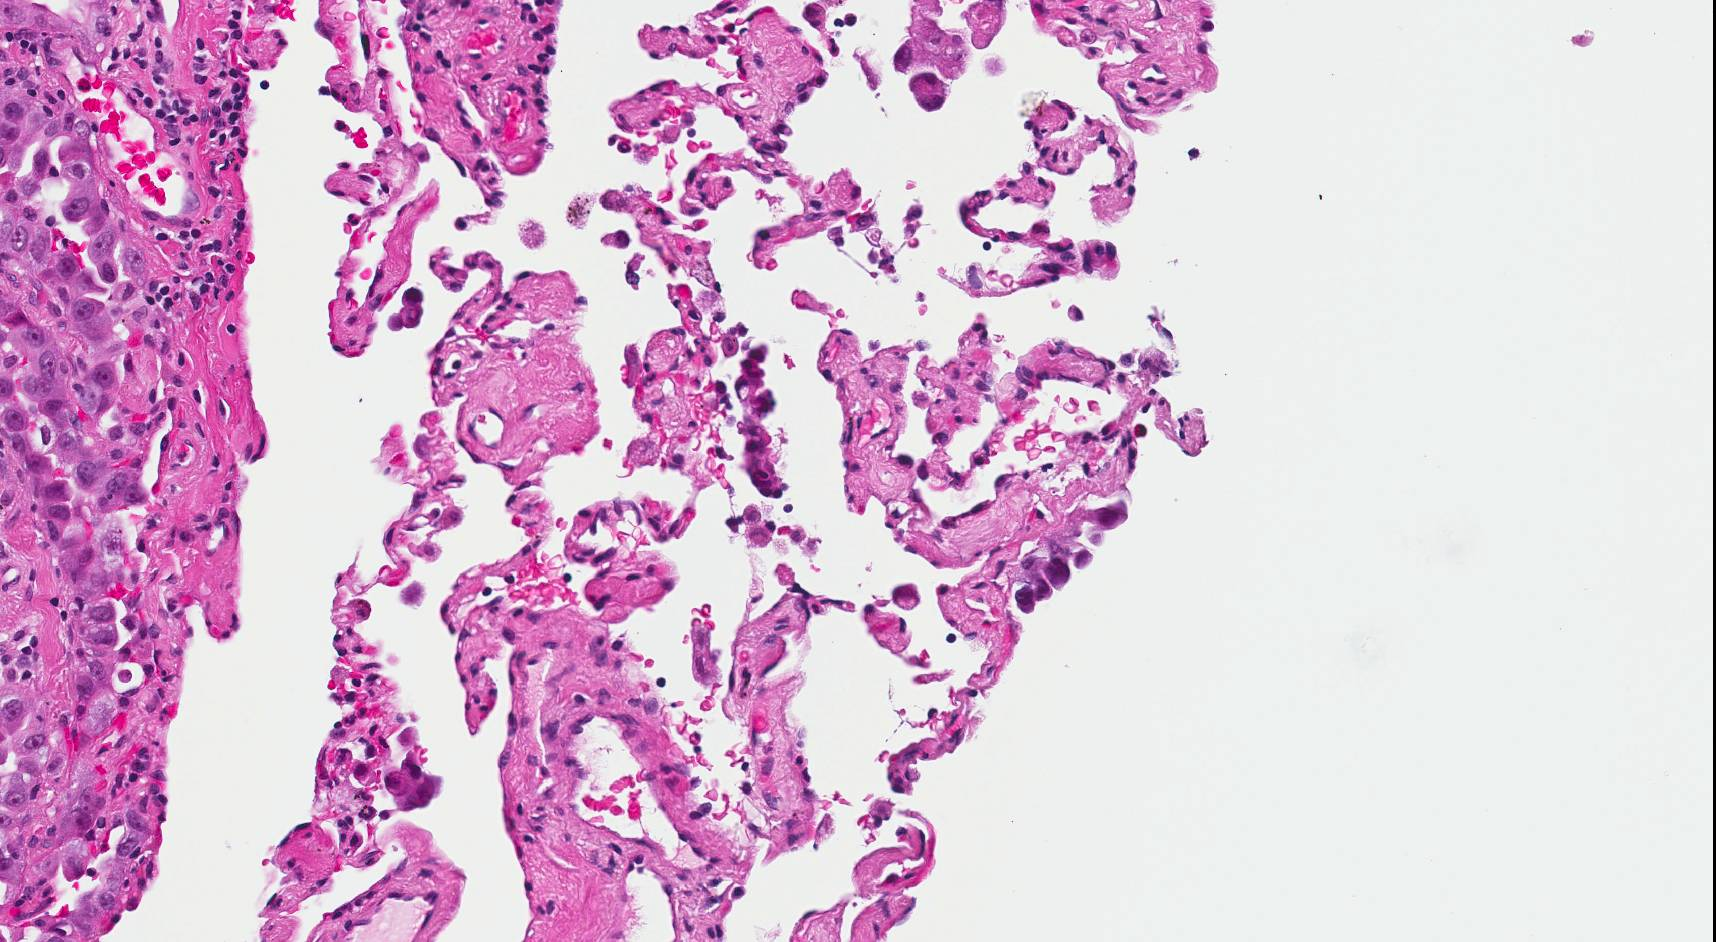stas: (1008, 504, 1133, 615), (728, 343, 799, 502), (386, 763, 443, 812), (386, 282, 429, 336), (909, 68, 953, 113)
